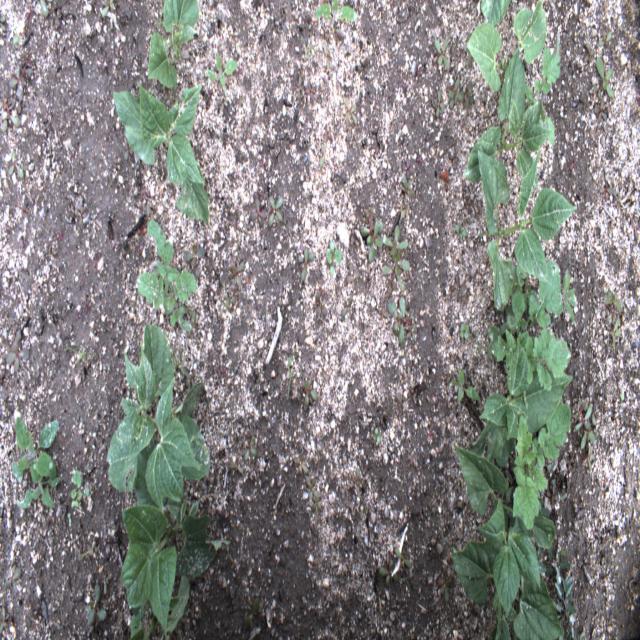crop: (107, 320, 214, 520), (454, 443, 556, 614), (480, 150, 577, 310), (120, 503, 230, 635), (112, 78, 209, 224), (469, 342, 572, 468), (452, 544, 565, 636), (469, 1, 547, 123), (462, 98, 549, 190), (147, 0, 199, 93)
weed: (488, 264, 577, 395), (514, 400, 572, 538), (138, 217, 196, 335), (10, 415, 62, 510), (526, 26, 563, 148), (531, 552, 574, 616), (2, 328, 33, 374), (206, 50, 240, 89), (8, 50, 33, 101), (449, 366, 481, 404), (358, 214, 385, 258), (386, 297, 410, 344), (313, 0, 357, 24), (2, 87, 24, 135), (382, 243, 409, 281), (574, 399, 595, 447), (86, 584, 107, 625), (71, 471, 91, 510), (596, 55, 614, 98), (300, 374, 318, 415), (384, 225, 409, 253), (296, 247, 313, 288), (182, 238, 205, 267), (269, 192, 286, 230), (243, 597, 261, 630), (376, 559, 398, 586), (433, 37, 450, 71), (392, 544, 414, 570), (325, 242, 343, 272), (250, 198, 268, 228), (4, 564, 22, 593), (606, 316, 621, 348), (593, 95, 609, 125), (598, 293, 623, 312), (9, 149, 25, 178), (464, 78, 475, 115), (73, 204, 91, 226), (449, 80, 463, 108), (242, 436, 258, 458), (100, 0, 114, 23), (397, 177, 411, 199), (597, 31, 612, 51), (0, 9, 8, 44), (436, 88, 442, 125), (459, 321, 470, 341), (455, 224, 468, 240), (372, 429, 381, 452), (441, 584, 449, 604), (77, 349, 86, 364), (619, 391, 625, 407)
